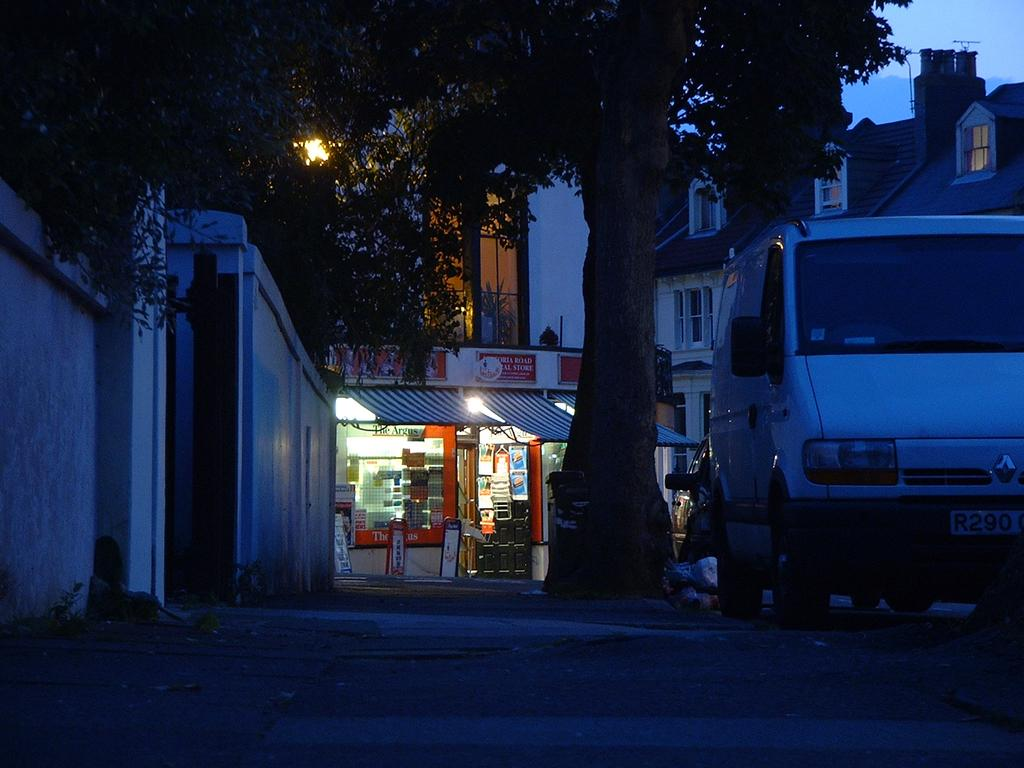vehicle: (708, 211, 1024, 628)
